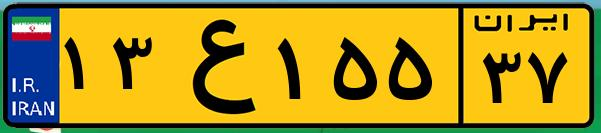1: (270, 28, 330, 110), (57, 26, 110, 100)
3: (475, 38, 525, 113), (110, 28, 158, 98)
5: (385, 28, 445, 110), (330, 28, 385, 110)
7: (525, 38, 570, 115)
ع: (158, 12, 270, 120)
